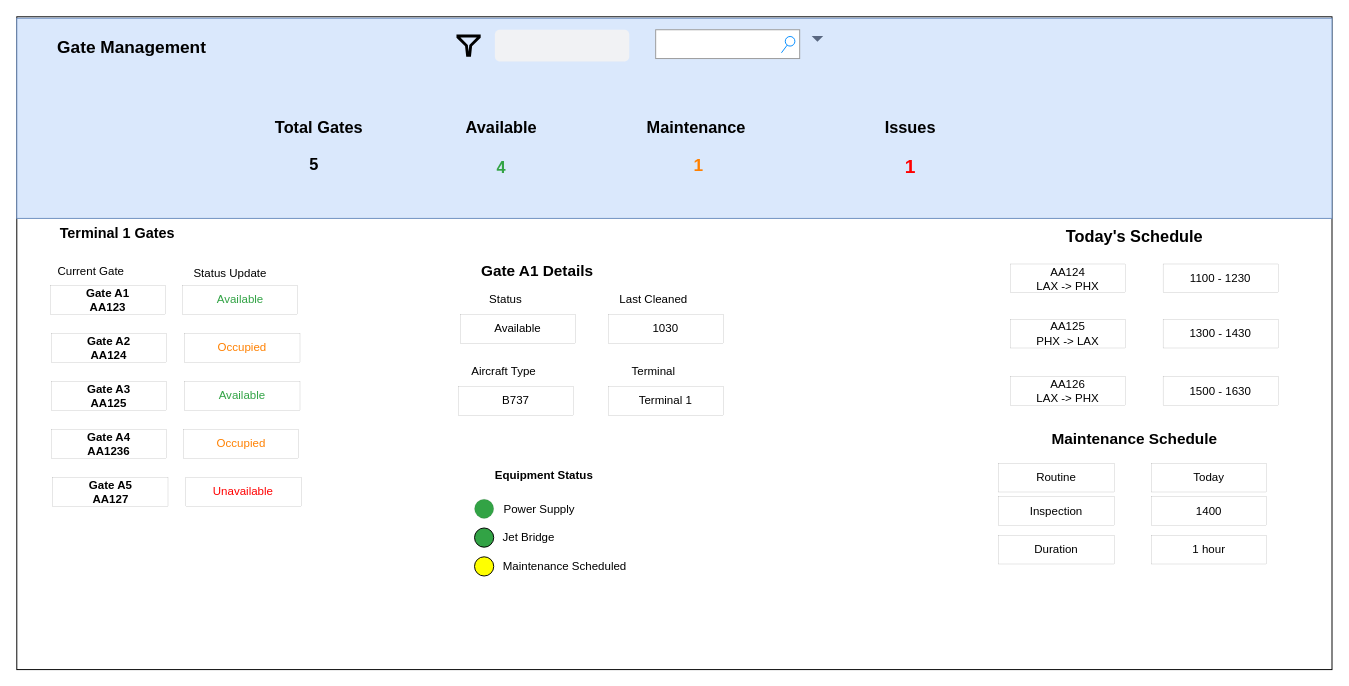
The diagram is 1349 pixels wide and 686 high, and some of its shapes have lost their labels. The centre of each missing label's shape, as x and y in pixels:
All terminals: the point at 561,45
Search gates: the point at 727,44
